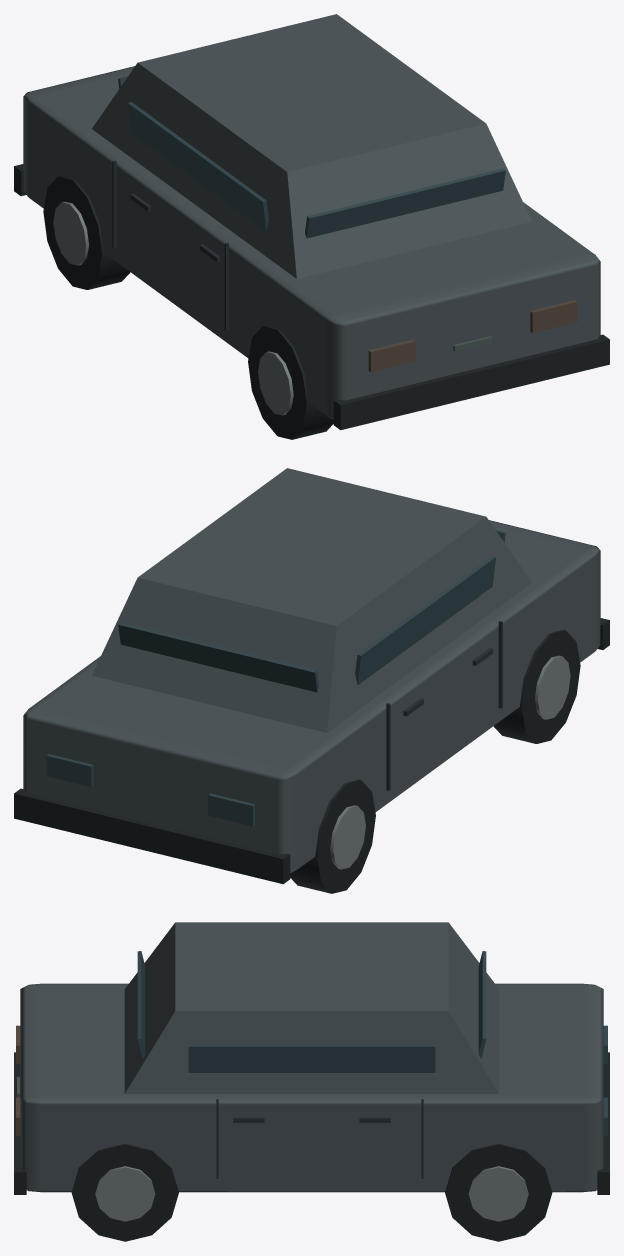
Rendered from hatchback-3.glb.
3 renders of one model, top to bottom at view 1: azimuth 30°, elevation 25°; view 2: azimuth 150°, elevation 25°; view 3: azimuth 270°, elevation 25°, orthographic. The views are drawn at different scales.
Visible parts, largest first — view 1: hatchback/2/KR-230-3; view 2: hatchback/2/KR-230-3; view 3: hatchback/2/KR-230-3.
Boxes of the visible parts, x1,y1,x2,y2 form: hatchback/2/KR-230-3: [14, 14, 609, 439]; hatchback/2/KR-230-3: [14, 468, 609, 893]; hatchback/2/KR-230-3: [14, 922, 609, 1241].
Size of the model in its own units: 1.87 by 1.5 by 3.78.
